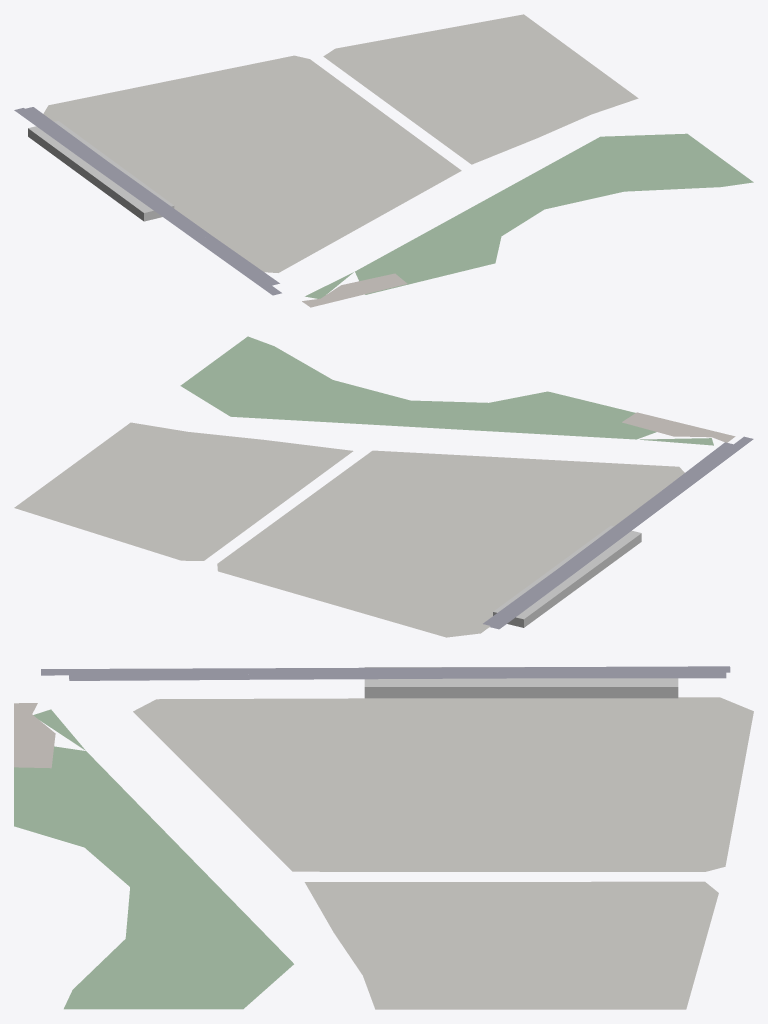
File: 124_130_mid.glb
The picture shows the model from 3 angles, top to bottom: view 1: azimuth 30°, elevation 25°; view 2: azimuth 150°, elevation 25°; view 3: azimuth 270°, elevation 25°; orthographic projection. The views are drawn at different scales.
Bounding box in the file's own units: 460 × 11.26 × 437.
